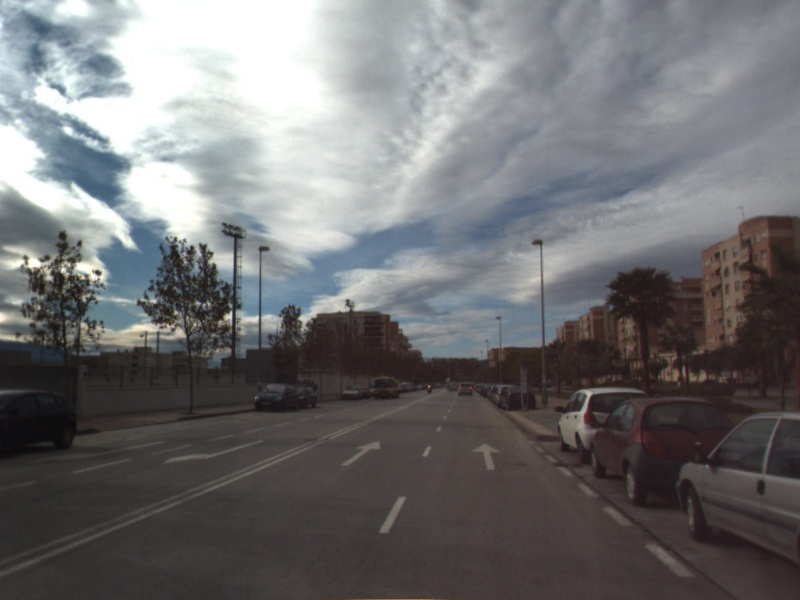STRAIGHT: (339, 439, 384, 468), (470, 441, 504, 472)
